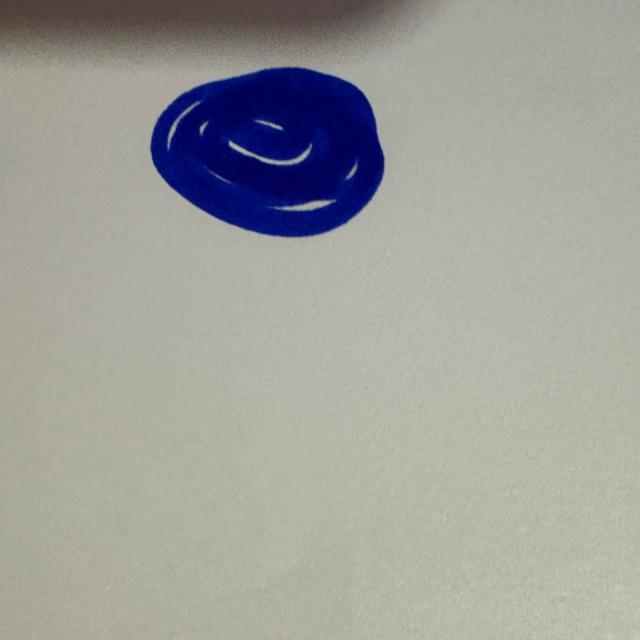Circle: (145, 62, 396, 245)
